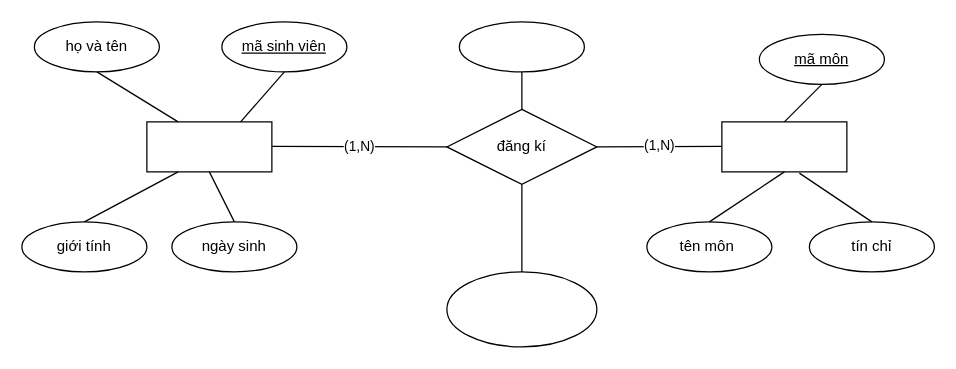
The diagram is 956 pixels wide and 369 high, and some of its shapes have lost their labels. Each missing label, with the centre of its shape:
"mã môn học đăng kí" belongs at point 521,309.
"mã sinh viên dk" belongs at point 521,46.
"môn học" belongs at point 784,146.
"sinh viên" belongs at point 209,146.
